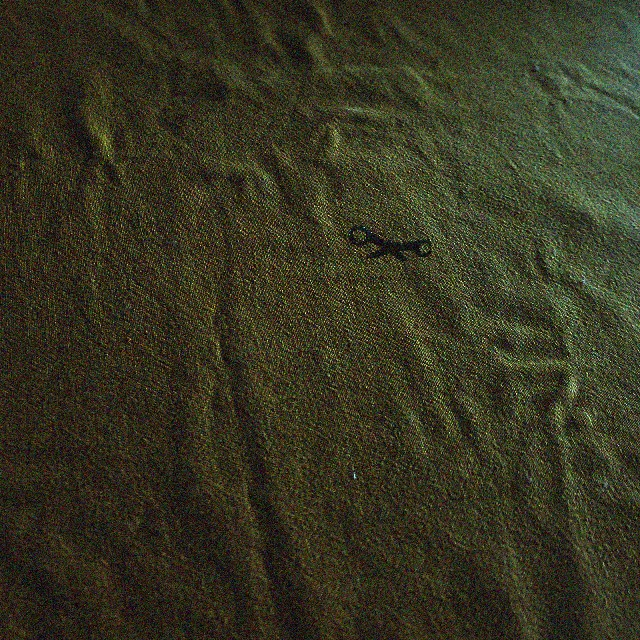scissors: (349, 225, 431, 261)
